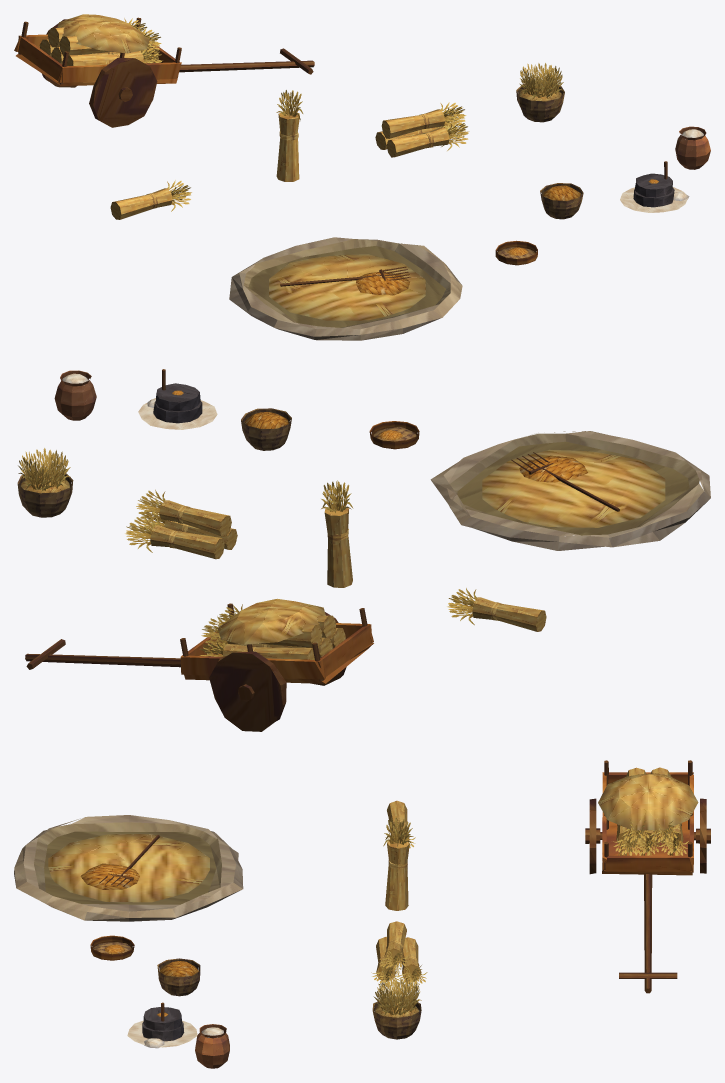
Rendered from colheita.glb.
The picture shows the model from 3 angles, top to bottom: view 1: azimuth 30°, elevation 25°; view 2: azimuth 150°, elevation 25°; view 3: azimuth 270°, elevation 25°; orthographic projection. The views are drawn at different scales.
Visible parts, largest first — view 1: Eira, Carroca, Carroca_Carga, Feixe_Pilha, Cesto_Espigas, Feixe_EmPe, Feixe_Deitado, Cesto_Graos, Jarro_Farinha, Mo_Base, Peneira, Mo_Cima (+1 smaller); view 2: Eira, Carroca, Carroca_Carga, Feixe_Pilha, Cesto_Espigas, Feixe_EmPe, Feixe_Deitado, Cesto_Graos, Jarro_Farinha, Mo_Base, Peneira, Mo_Cima (+1 smaller); view 3: Eira, Carroca, Carroca_Carga, Cesto_Espigas, Feixe_Pilha, Feixe_EmPe, Cesto_Graos, Jarro_Farinha, Mo_Base, Peneira, Mo_Cima, Feixe_Deitado.
Boxes of the visible parts, box(x1,y1,x2,y2) form: Eira: box(229, 237, 462, 340); Carroca: box(14, 17, 314, 127); Carroca_Carga: box(39, 14, 162, 66); Feixe_Pilha: box(375, 102, 469, 157); Cesto_Espigas: box(516, 63, 564, 122); Feixe_EmPe: box(276, 90, 303, 181); Feixe_Deitado: box(110, 180, 191, 219); Cesto_Graos: box(540, 183, 583, 219); Jarro_Farinha: box(675, 126, 710, 169); Mo_Base: box(620, 187, 689, 212); Peneira: box(495, 240, 537, 265); Mo_Cima: box(634, 161, 672, 197); Eira: box(430, 431, 710, 550); Carroca: box(25, 603, 373, 731); Carroca_Carga: box(200, 598, 345, 659); Feixe_Pilha: box(125, 489, 237, 559); Cesto_Espigas: box(17, 448, 73, 517); Feixe_EmPe: box(321, 480, 353, 587); Feixe_Deitado: box(447, 588, 546, 631); Cesto_Graos: box(241, 408, 291, 450); Jarro_Farinha: box(54, 370, 96, 420); Mo_Base: box(138, 398, 217, 429); Peneira: box(369, 421, 419, 449); Mo_Cima: box(155, 369, 200, 410); Eira: box(14, 815, 243, 921); Carroca: box(585, 760, 710, 993); Carroca_Carga: box(598, 767, 698, 855); Cesto_Espigas: box(372, 978, 421, 1039); Feixe_Pilha: box(371, 921, 427, 991); Feixe_EmPe: box(383, 817, 413, 910); Cesto_Graos: box(157, 958, 200, 996); Jarro_Farinha: box(195, 1024, 229, 1068); Mo_Base: box(127, 1020, 197, 1048); Peneira: box(90, 935, 134, 960); Mo_Cima: box(143, 1002, 181, 1030); Feixe_Deitado: box(385, 800, 415, 848).
Bounding box in the file's own units: 7.18 × 1.37 × 8.32.
Materials: 2 (2 with a texture image).
